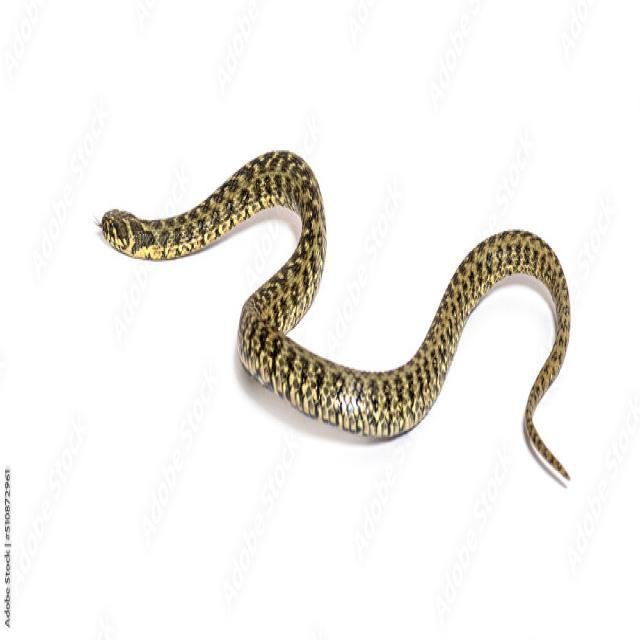Snake: (92, 87, 592, 506)
